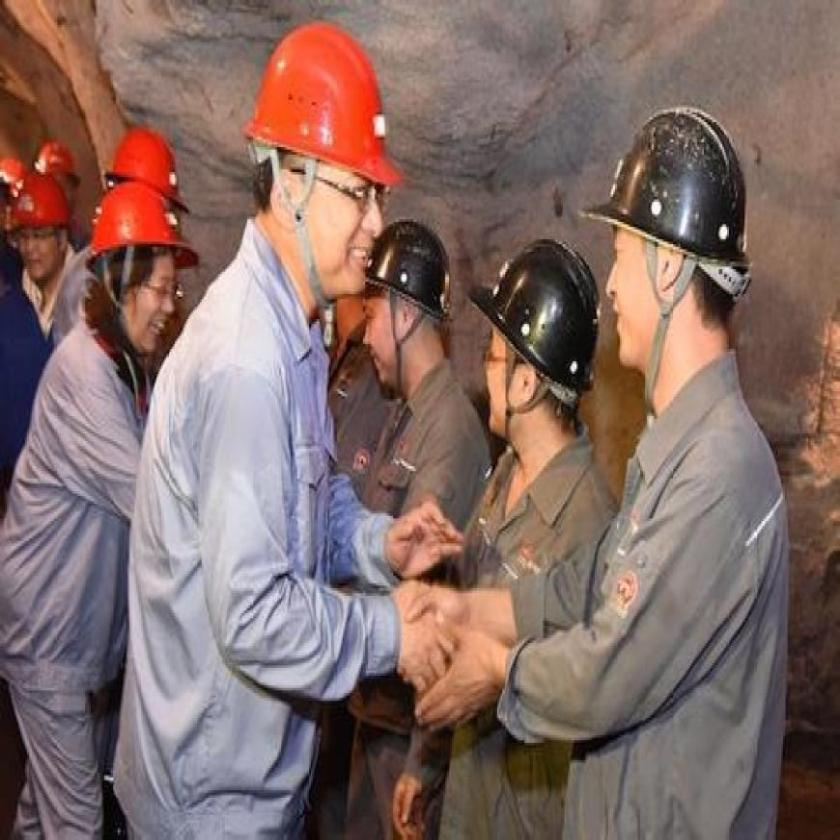Con_casco: (587, 92, 761, 385), (240, 14, 394, 312), (461, 230, 600, 444), (71, 178, 202, 353), (356, 212, 451, 395), (0, 160, 78, 295)
